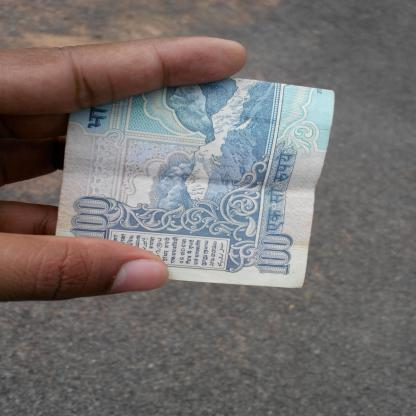Old100Back: (56, 76, 334, 289)
